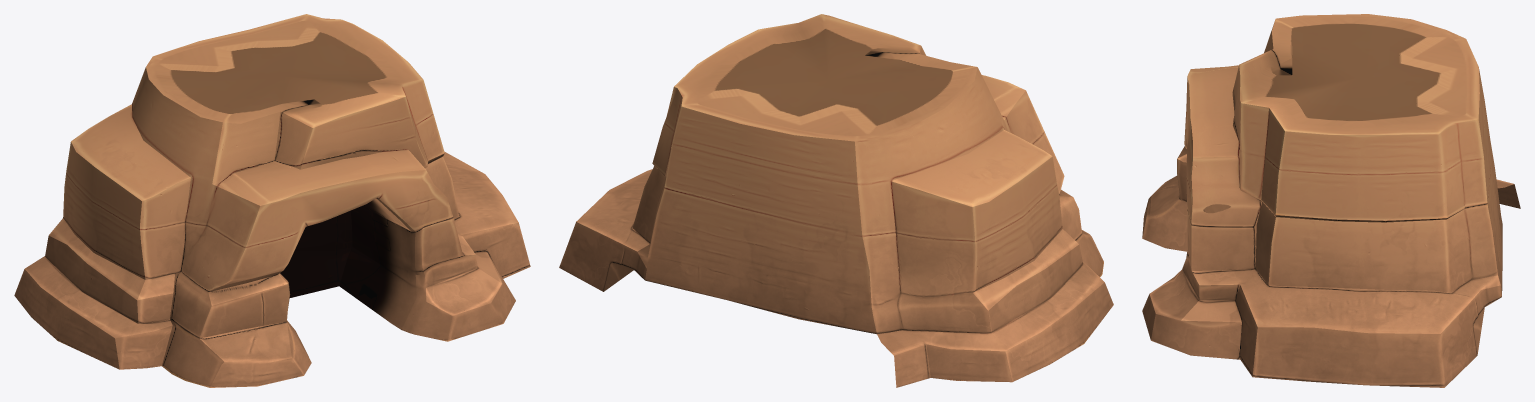
Rendered from mine_enter_1.fbx.
The picture shows the model from 3 angles, left to right: view 1: azimuth 30°, elevation 25°; view 2: azimuth 150°, elevation 25°; view 3: azimuth 270°, elevation 25°; orthographic projection. The views are drawn at different scales.
Parts seen in each view (by area): view 1: re_mine_enter; view 2: re_mine_enter; view 3: re_mine_enter.
Boxes of the visible parts, x1=… form: re_mine_enter: x1=14, y1=14, x2=530, y2=387; re_mine_enter: x1=559, y1=14, x2=1113, y2=387; re_mine_enter: x1=1142, y1=14, x2=1520, y2=387.
Size of the model in its own units: 660 by 293 by 471.
